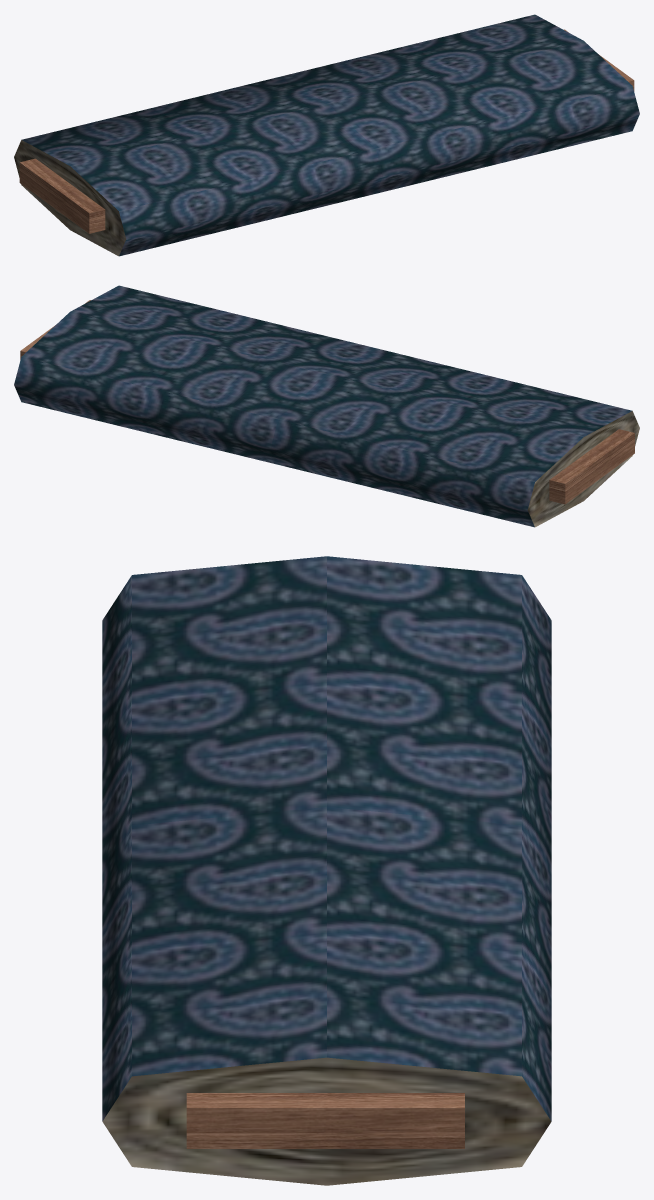
The model's file is shop_tailor_fabricBolt01.fbx.
3 views of the same model, one above another, from view 1: azimuth 30°, elevation 25°; view 2: azimuth 150°, elevation 25°; view 3: azimuth 270°, elevation 25° (orthographic). The views are drawn at different scales.
Visible parts, largest first — view 1: bolt_fabric, bolt_wood; view 2: bolt_fabric, bolt_wood; view 3: bolt_fabric, bolt_wood.
Boxes of the visible parts, x1,y1,x2,y2 form: bolt_fabric: [14, 14, 639, 256]; bolt_wood: [19, 29, 634, 233]; bolt_fabric: [14, 285, 639, 527]; bolt_wood: [20, 300, 634, 504]; bolt_fabric: [102, 556, 551, 1185]; bolt_wood: [186, 1093, 464, 1148].
Bounding box in the file's own units: 386 × 43.4 × 138.
Materials: 1 (1 with a texture image).
